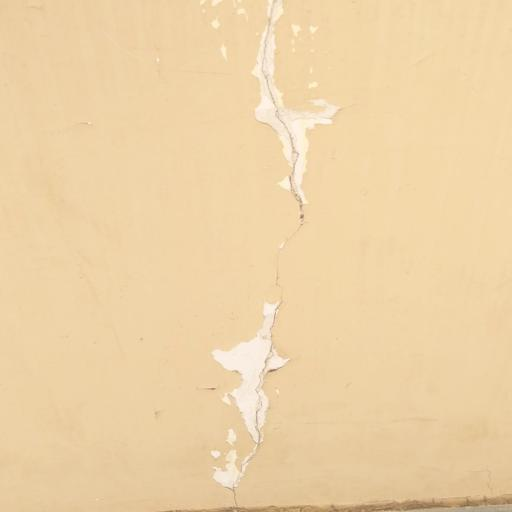peeling: (188, 0, 357, 238), (176, 210, 302, 511)
